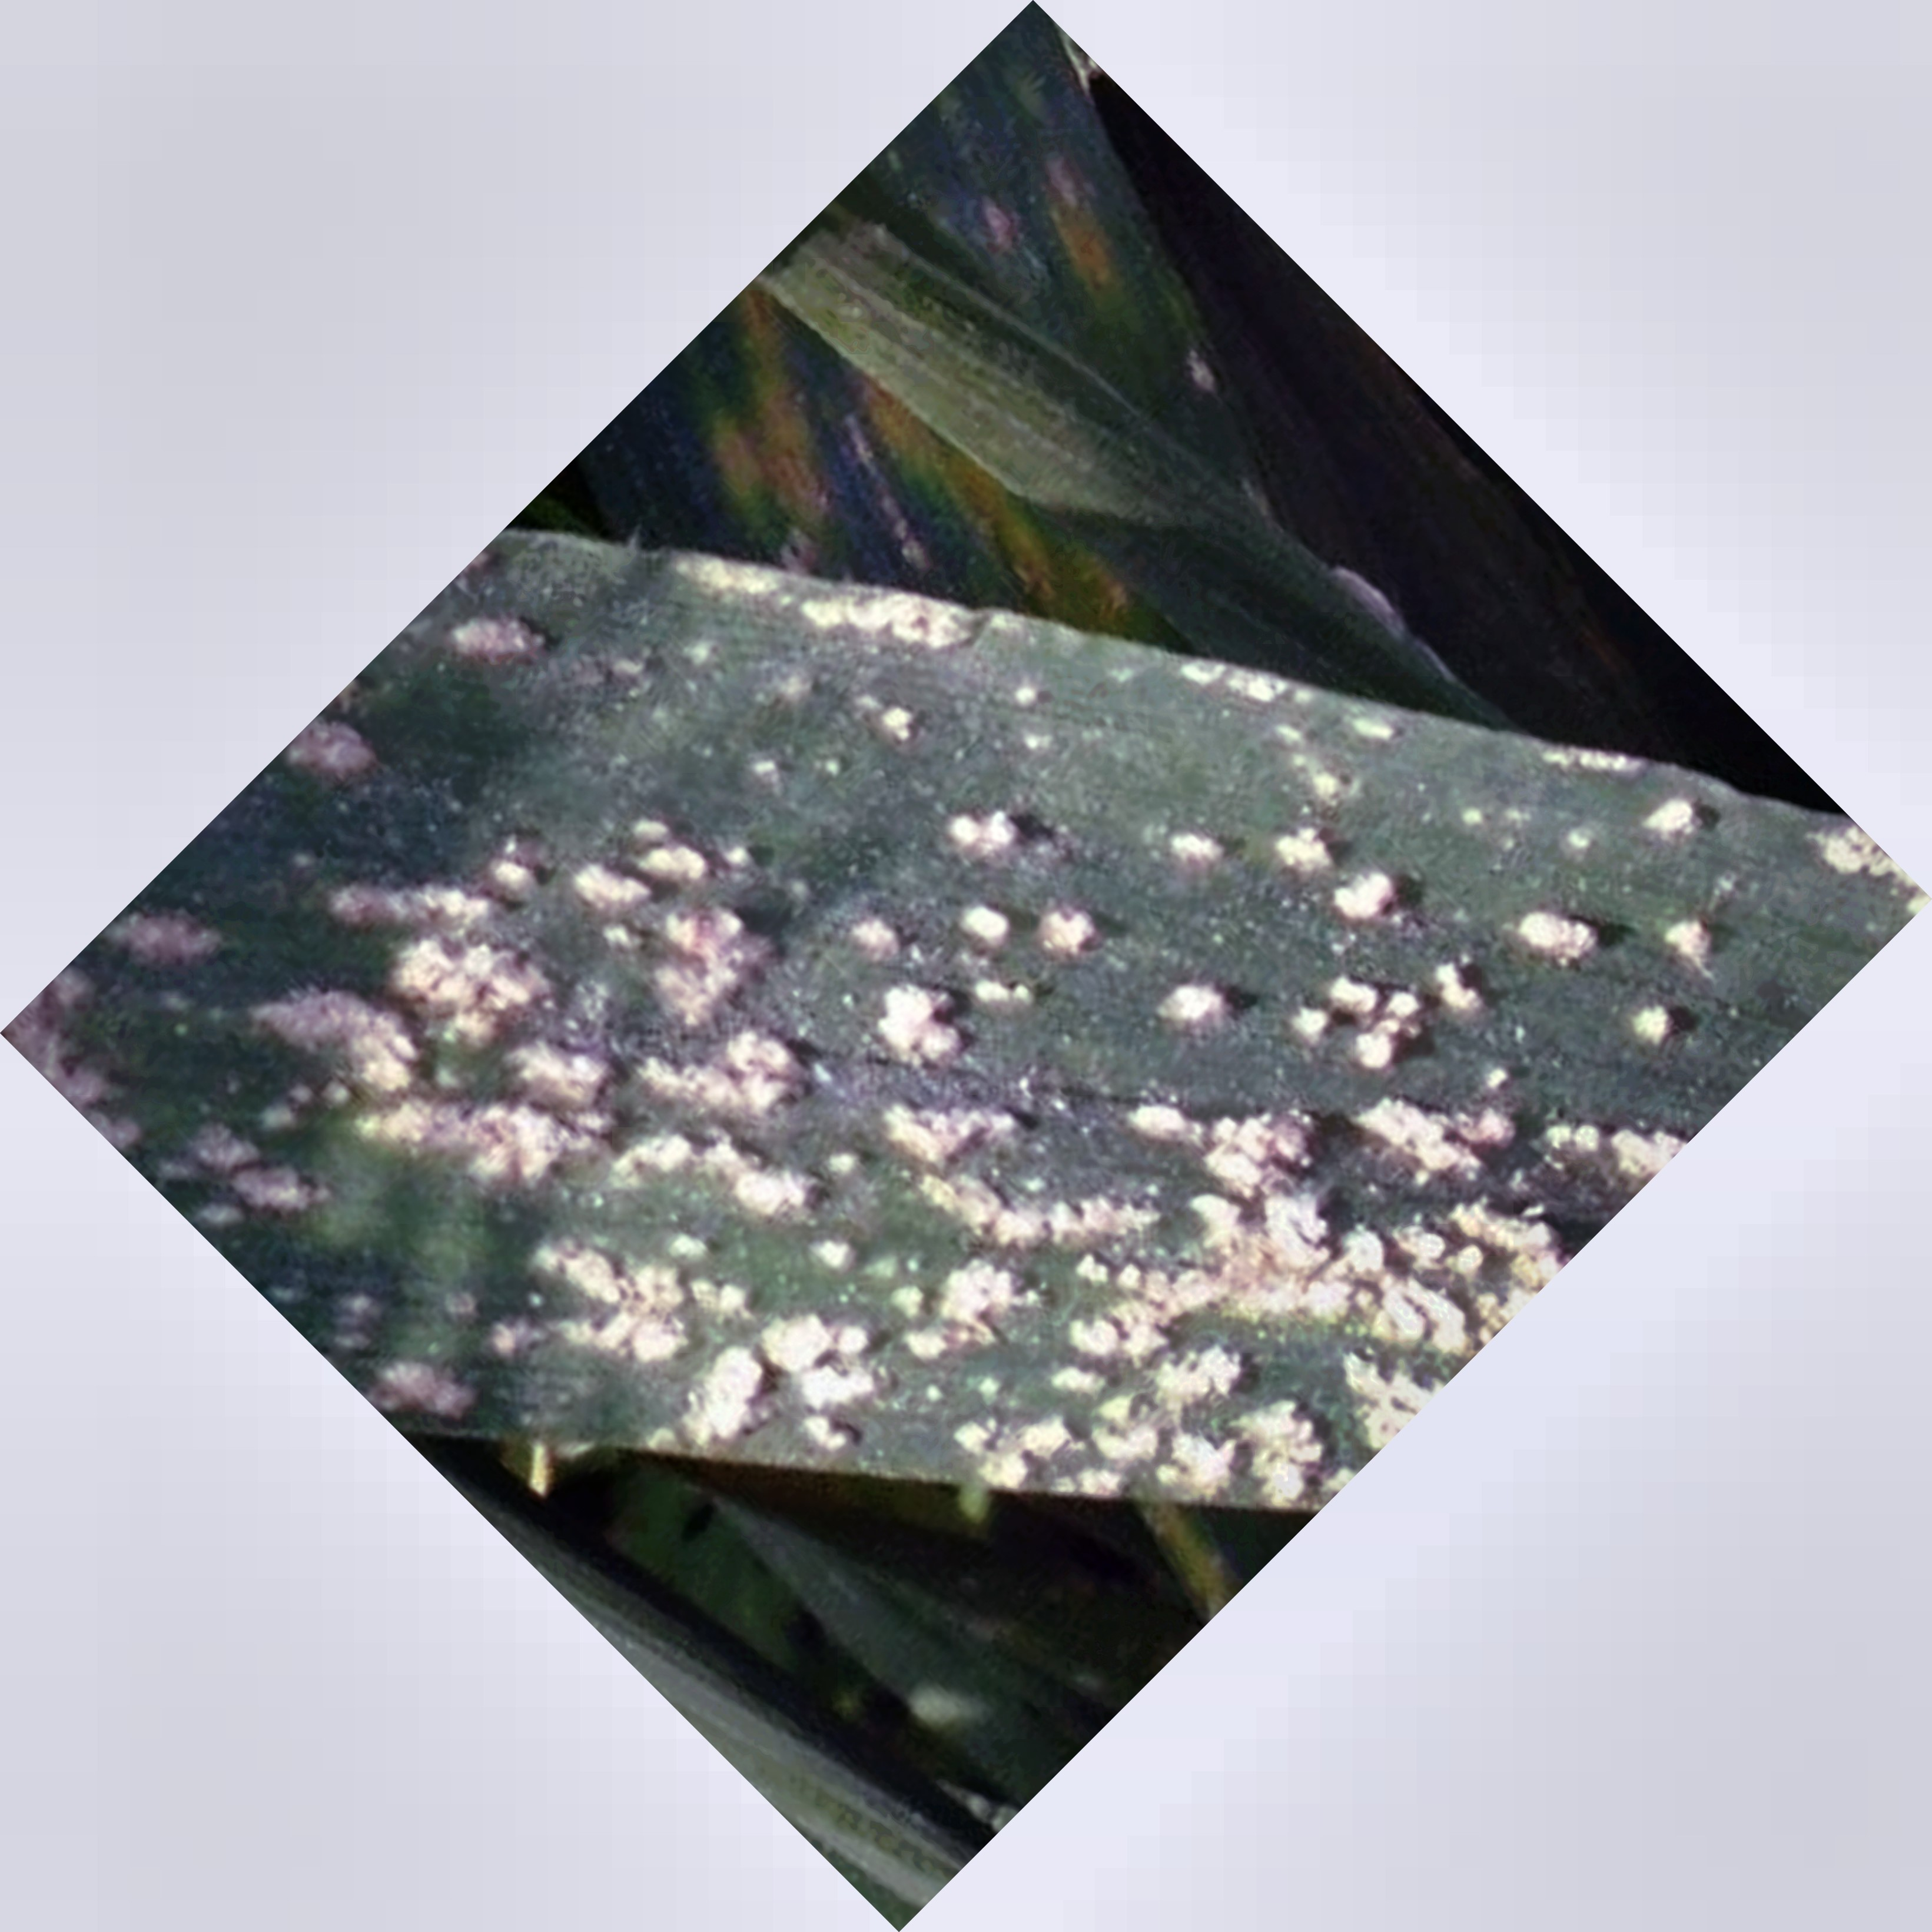Powdery Mildew: (235, 642, 1529, 1484)
